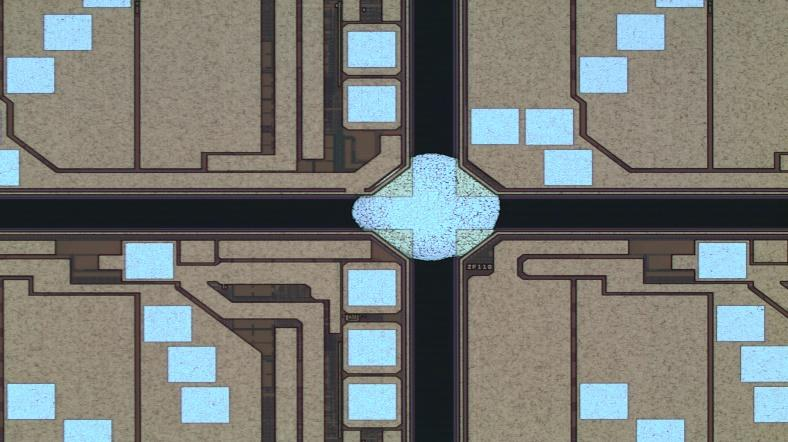BLOCK ETCH: (349, 150, 504, 268)
